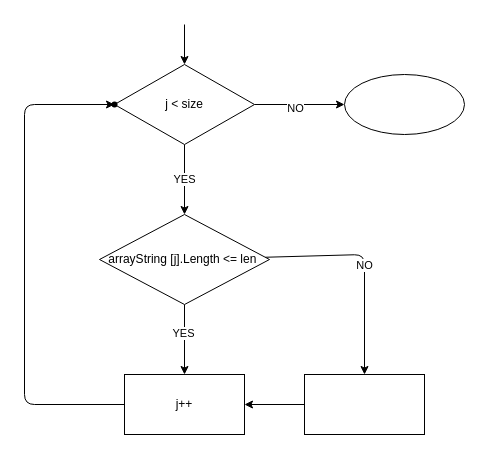
Image size: 482x452. Some labels were removed from this diagram. Each missing label, with the centre of its shape:
"arrayTotal [pos] = arrayString [j] pos++" belongs at point 364,404.
"END" belongs at point 404,104.
